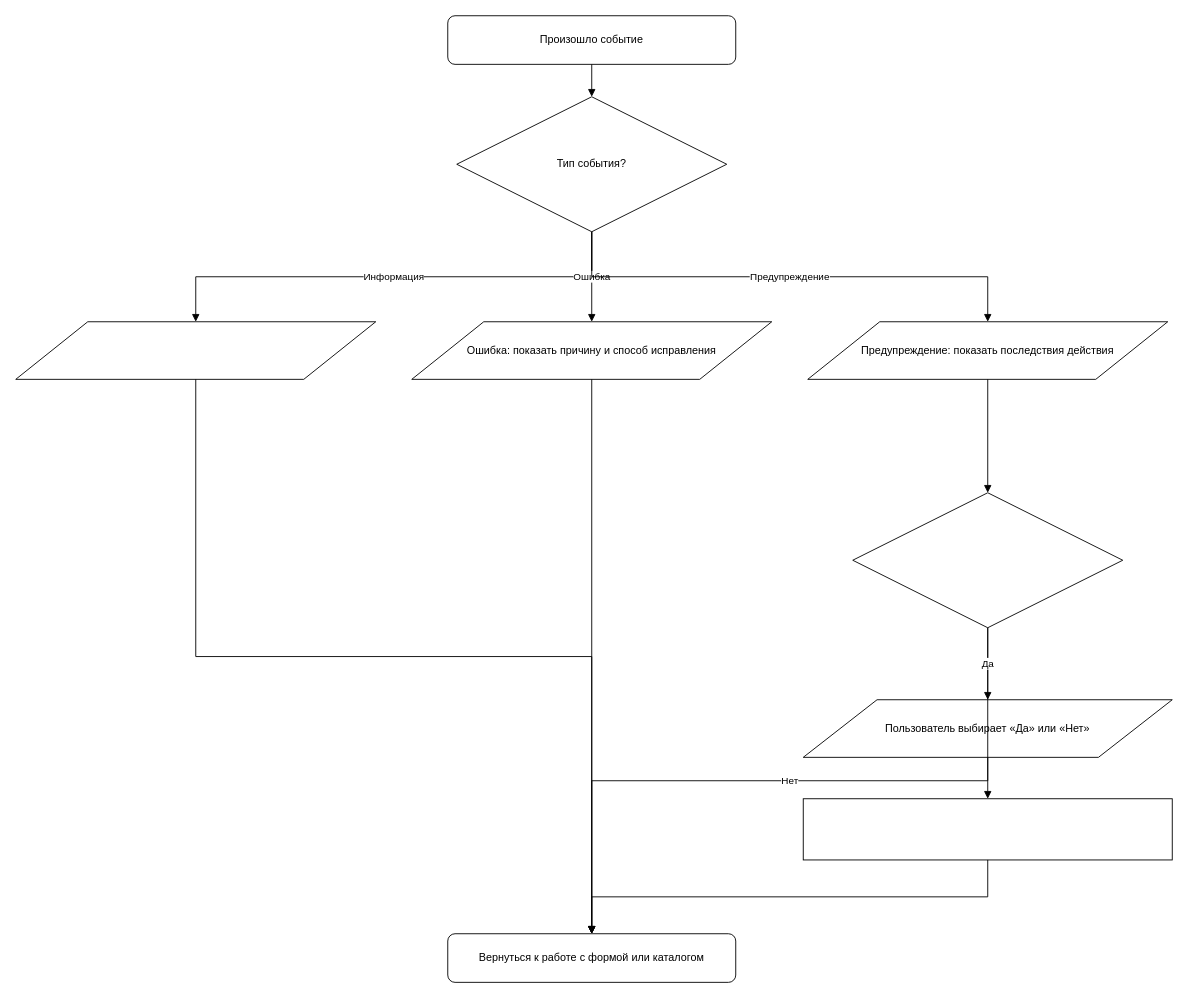
The diagram is 1188 pixels wide and 998 high, and some of its shapes have lost their labels. Here are the shapes that lost their labels. From the top down, the centre of each, then its label:
the point at 195,350: Информация: показать результат успешной операции
the point at 987,560: Нужно подтверждение?
the point at 987,829: Выполнить действие или безопасно отменить
